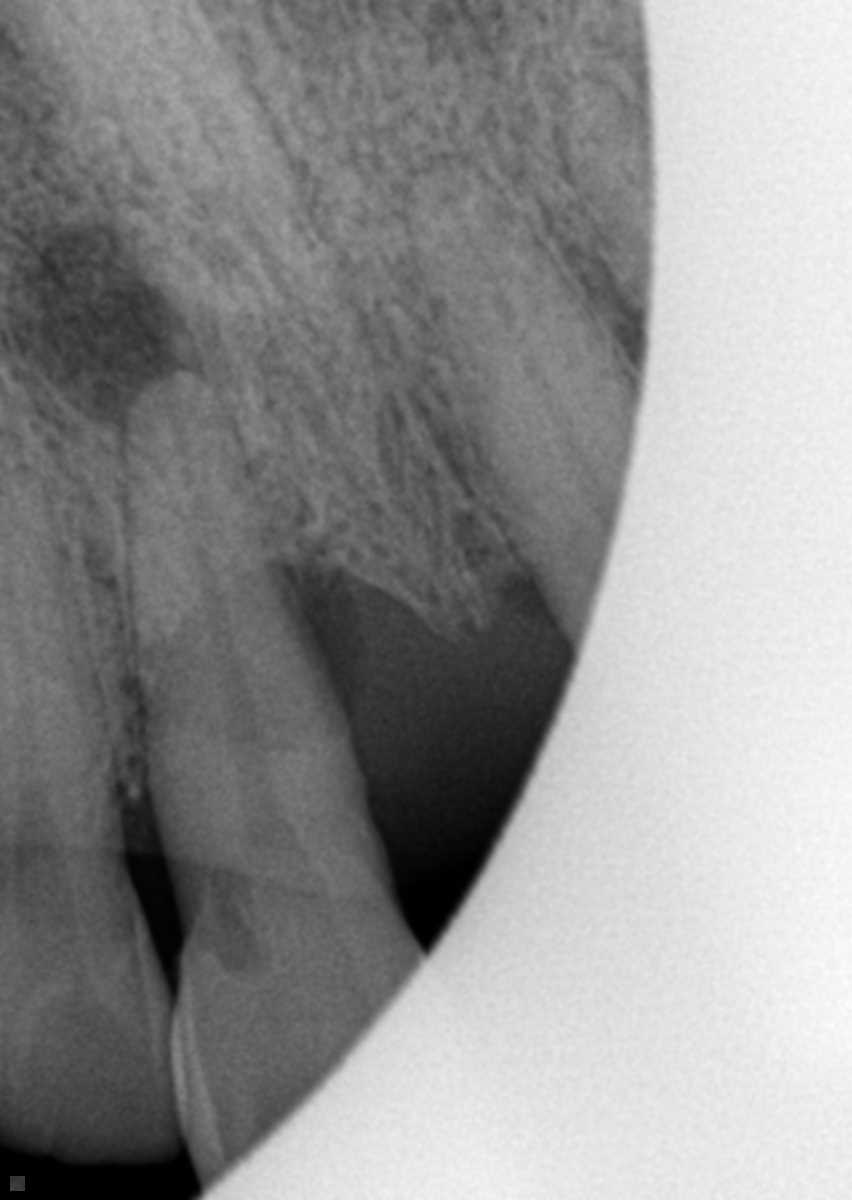Apical Lesion: (17, 197, 216, 429)
Main Canal: (429, 166, 612, 522), (163, 379, 277, 788), (7, 505, 54, 839)
Main Root: (412, 149, 646, 657), (124, 371, 349, 819), (0, 407, 115, 845)
decay: (169, 856, 255, 973)
